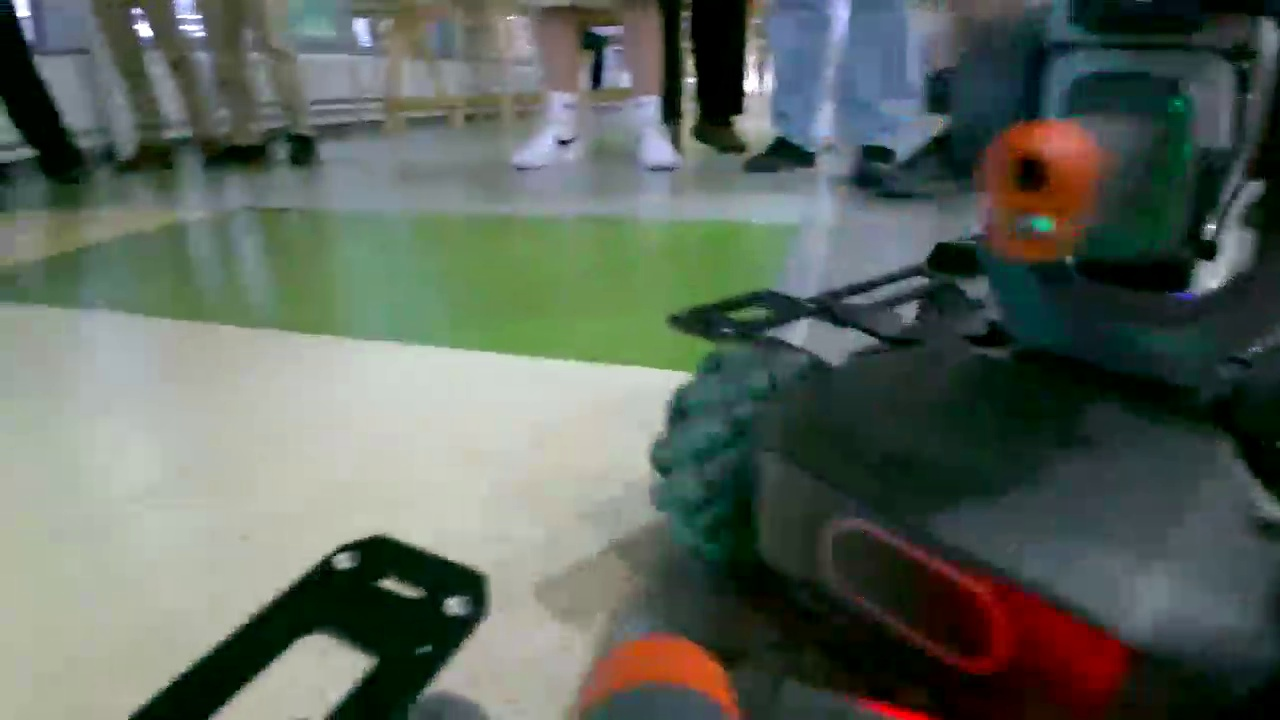robot: (645, 7, 1280, 717)
